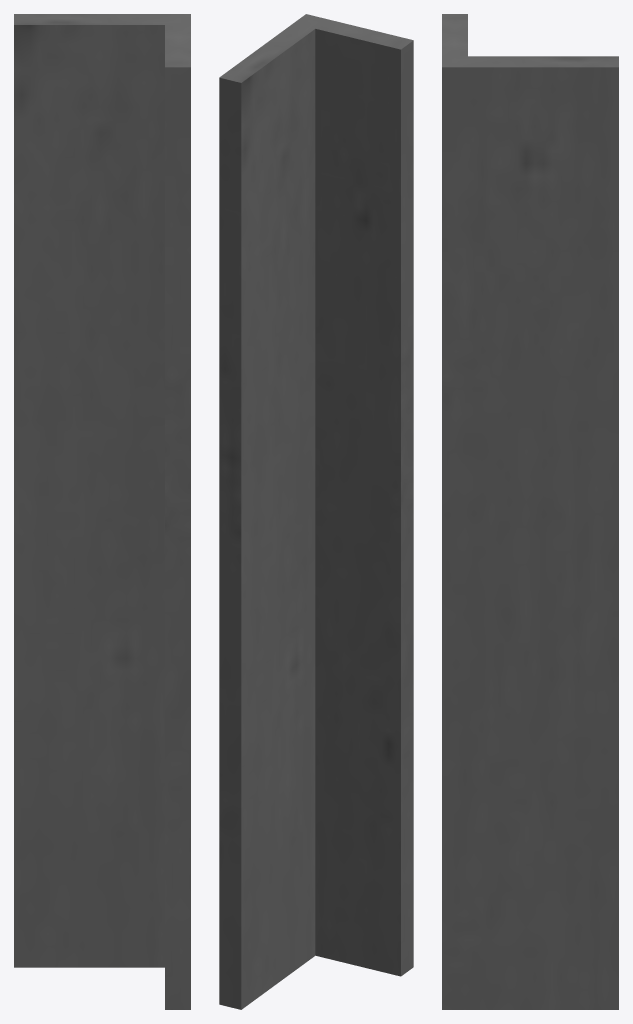
Rendered from Zierleiste3.fbx.
3 views of the same model, side by side, from view 1: azimuth 90°, elevation 25°; view 2: azimuth 150°, elevation 25°; view 3: azimuth 270°, elevation 25° (orthographic).
Visible parts, largest first — view 1: Zierteil1; view 2: Zierteil1; view 3: Zierteil1.
Part boxes in pixels (<box>): Zierteil1: <box>14,14,190,1009</box>; Zierteil1: <box>219,14,413,1009</box>; Zierteil1: <box>442,14,618,1009</box>.
Size of the model in its own units: 9.72 by 80 by 13.6.
